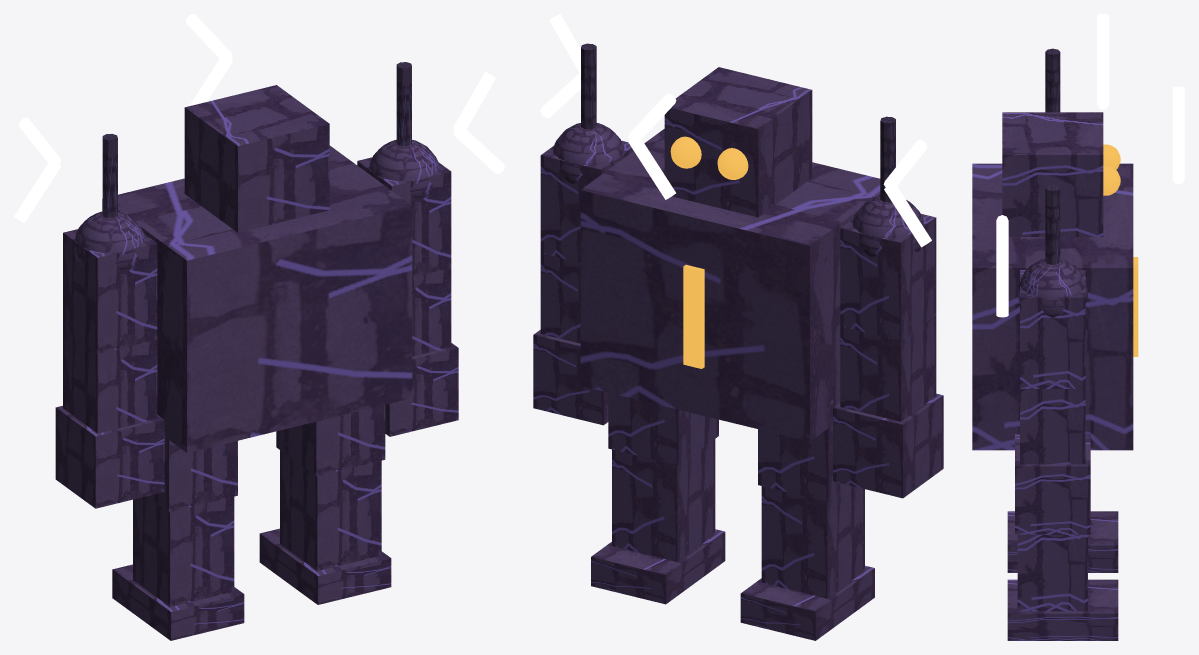
The model's file is golem-storm.glb.
3 views of the same model, side by side, from view 1: azimuth 30°, elevation 25°; view 2: azimuth 150°, elevation 25°; view 3: azimuth 270°, elevation 25° (orthographic). The views are drawn at different scales.
Visible parts, largest first — view 1: Torso, Head, Shin.001, Shin, UpperArm, Fist, Forearm, Thigh.001, Foot, Foot.001, Thigh, Fist.001 (+12 smaller); view 2: Torso, Head, Shin.001, Shin, UpperArm, Fist, Forearm, Thigh.001, Foot, Foot.001, Thigh, Fist.001 (+15 smaller); view 3: Torso, Head, UpperArm.001, Fist.001, Shin.001, Forearm.001, Foot.001, Foot, JointShoulder.001, LightningRod.1, LightningRod.0, Bolt.1.1 (+8 smaller).
Boxes of the visible parts, x1,y1,x2,y2 form: Torso: [102, 145, 412, 452]; Head: [184, 85, 329, 232]; Shin.001: [280, 450, 381, 571]; Shin: [133, 496, 234, 606]; UpperArm: [63, 229, 157, 353]; Fist: [55, 406, 164, 508]; Forearm: [63, 329, 157, 433]; Thigh.001: [276, 405, 385, 476]; Foot: [112, 564, 244, 640]; Foot.001: [259, 528, 391, 604]; Thigh: [147, 437, 237, 512]; Fist.001: [385, 343, 458, 436]; Torso: [580, 129, 880, 441]; Head: [664, 67, 812, 217]; Shin.001: [612, 439, 715, 561]; Shin: [761, 486, 864, 598]; UpperArm: [840, 214, 936, 340]; Fist: [833, 393, 943, 498]; Forearm: [840, 315, 936, 421]; Thigh.001: [608, 392, 718, 465]; Foot: [740, 565, 874, 640]; Foot.001: [591, 529, 725, 604]; Thigh: [758, 425, 850, 501]; Fist.001: [533, 330, 608, 425]; Torso: [972, 163, 1133, 450]; Head: [1002, 112, 1103, 236]; UpperArm.001: [1020, 270, 1085, 388]; Fist.001: [1015, 434, 1090, 534]; Shin.001: [1017, 534, 1087, 611]; Forearm.001: [1020, 389, 1085, 464]; Foot.001: [1007, 579, 1118, 640]; Foot: [1007, 511, 1118, 572]; JointShoulder.001: [1017, 258, 1087, 317]; LightningRod.1: [1045, 185, 1060, 264]; LightningRod.0: [1045, 48, 1060, 112]; Bolt.1.1: [996, 251, 1008, 317].
Size of the model in its own units: 0.9483 by 1.11 by 0.422.
4 materials, 2 textured.
